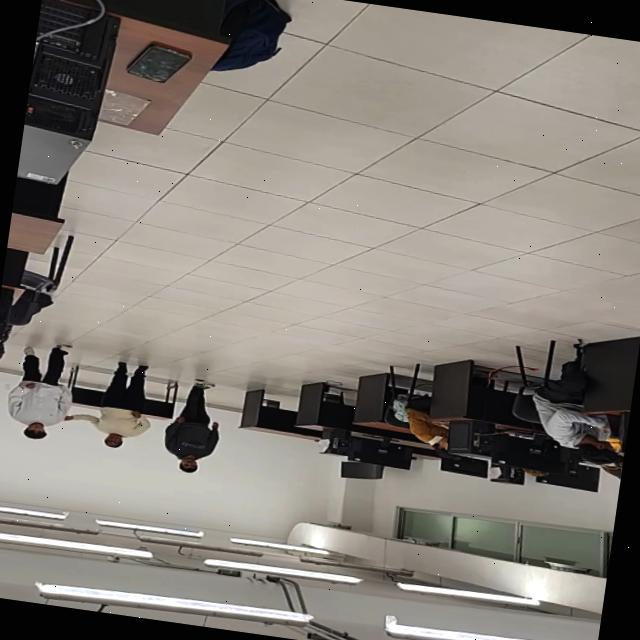Persona: (0, 336, 84, 451), (76, 356, 162, 455), (154, 372, 231, 482)
